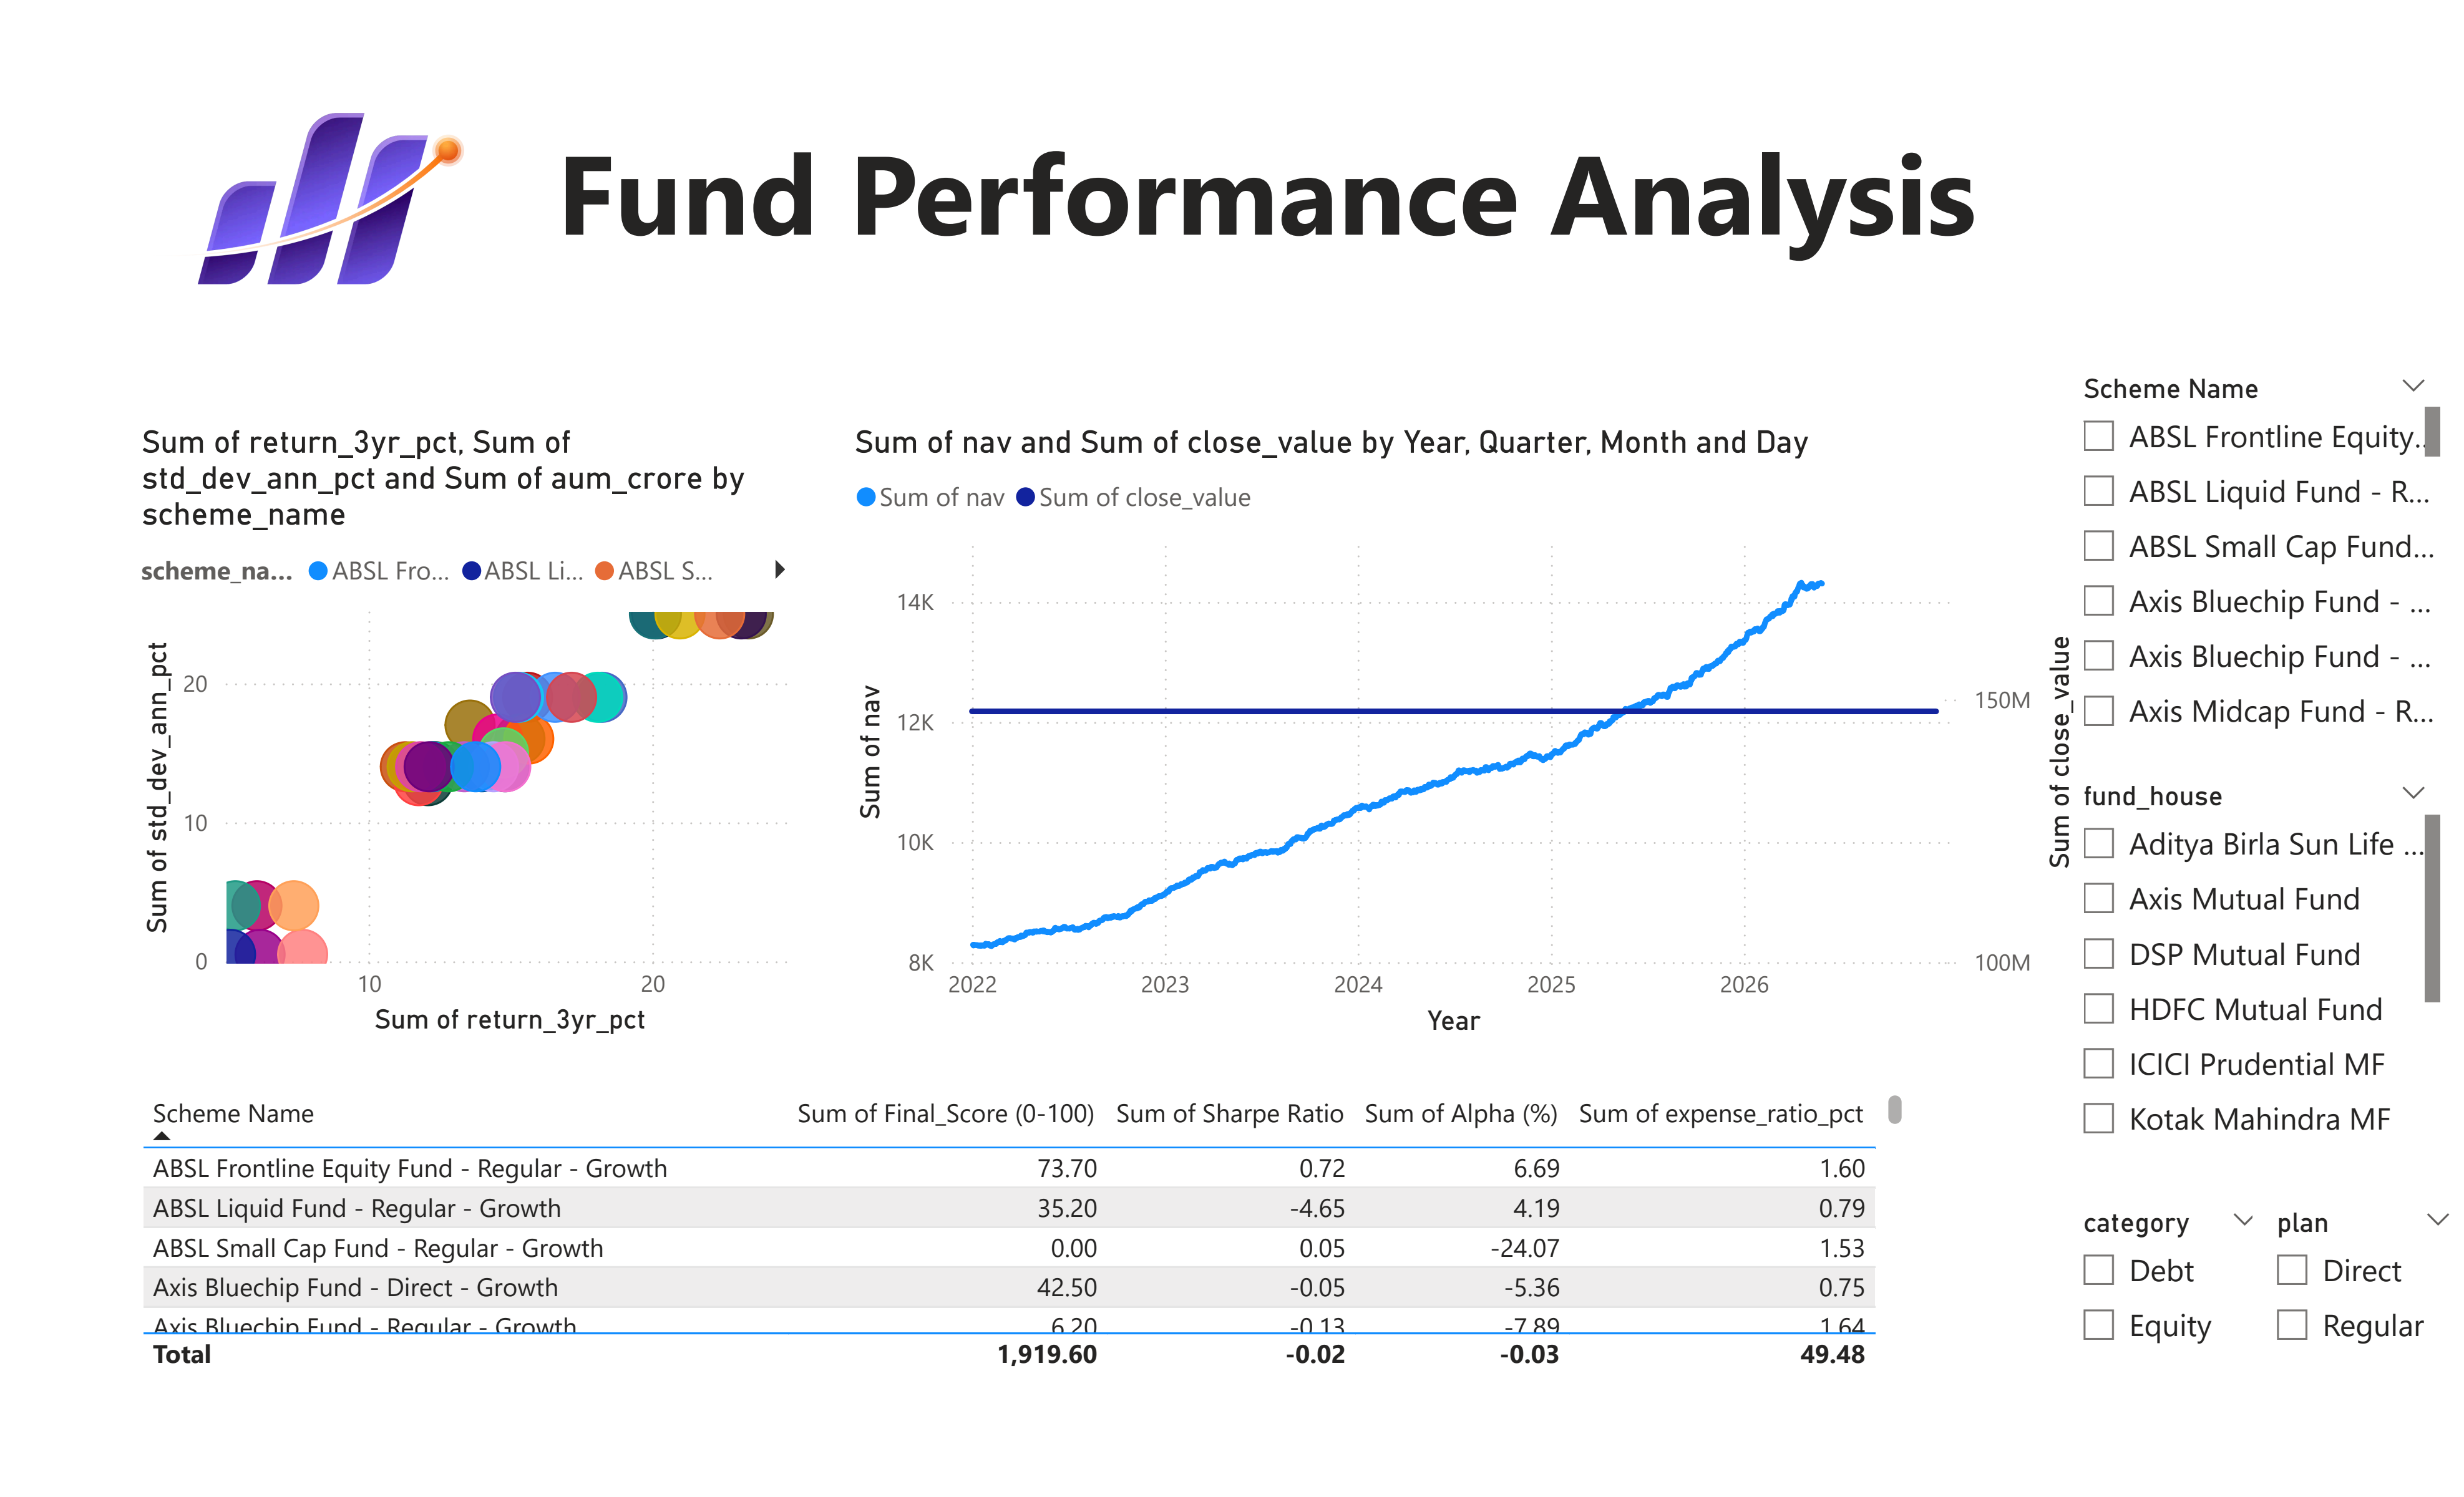

The page's visual inventory and layout, read from the dashboard file:
{"tool":"powerbi","page":{"name":"Page 2","canvas":[1280,720],"ordinal":1},"visuals":[{"type":"textbox","box":[263.7,21,844.6,95.5],"z":0},{"type":"image","box":[45.3,11.3,179.6,116.5],"z":1000},{"type":"tableEx","fields":{"Values":["fund_scorecard.Scheme Name","Sum(fund_scorecard.Final_Score (0-100))","Sum(fund_scorecard.Sharpe Ratio)","Sum(fund_scorecard.Alpha (%))","Sum(fund_scorecard.expense_ratio_pct)"]},"box":[45.3,537.2,938.4,156.9],"z":2000},{"type":"slicer","fields":{"Values":["fund_scorecard.Scheme Name"]},"box":[1061.4,156.9,205.5,203.9],"z":3000},{"type":"slicer","fields":{"Values":["01_fund_master_cleaned.fund_house"]},"box":[1061.4,372.1,205.5,197.4],"z":4000},{"type":"slicer","fields":{"Values":["01_fund_master_cleaned.category"]},"box":[1061.4,597,116.5,97.1],"z":5000},{"type":"slicer","fields":{"Values":["01_fund_master_cleaned.plan"]},"box":[1163.3,597,116.5,97.1],"z":6000},{"type":"lineChart","fields":{"Y":["Sum(02_nav_history_cleaned.nav)"],"Category":["02_nav_history_cleaned.date.Variation.Date Hierarchy.Year","02_nav_history_cleaned.date.Variation.Date Hierarchy.Quarter","02_nav_history_cleaned.date.Variation.Date Hierarchy.Month","02_nav_history_cleaned.date.Variation.Date Hierarchy.Day"],"Y2":["Sum(10_benchmark_indices_cleaned.close_value)"]},"box":[421,188,653,328],"z":7000},{"type":"scatterChart","fields":{"X":["Sum(07_scheme_performance_cleaned.return_3yr_pct)"],"Y":["Sum(07_scheme_performance_cleaned.std_dev_ann_pct)"],"Size":["Sum(03_aum_by_fund_house_cleaned.aum_crore)"],"Series":["07_scheme_performance_cleaned.scheme_name"]},"box":[45.3,187.7,360.8,328.4],"z":8000}]}

Visuals, with their boxes on the page's 1280x720 design canvas (x1, y1, x2, y2). These are canvas units, not pixel positions in the 2464x1497 screenshot, which may show the page scaled, cropped or inside an application window:
textbox: 264 21 1108 116
image: 45 11 225 128
tableEx - fund_scorecard.Scheme Name x Sum(fund_scorecard.Final_Score (0-100)): 45 537 984 694
slicer - fund_scorecard.Scheme Name: 1061 157 1267 361
slicer - 01_fund_master_cleaned.fund_house: 1061 372 1267 570
slicer - 01_fund_master_cleaned.category: 1061 597 1178 694
slicer - 01_fund_master_cleaned.plan: 1163 597 1280 694
lineChart - Sum(02_nav_history_cleaned.nav) x 02_nav_history_cleaned.date.Variation.Date Hierarchy.Year: 421 188 1074 516
scatterChart - Sum(07_scheme_performance_cleaned.return_3yr_pct) x Sum(07_scheme_performance_cleaned.std_dev_ann_pct): 45 188 406 516
